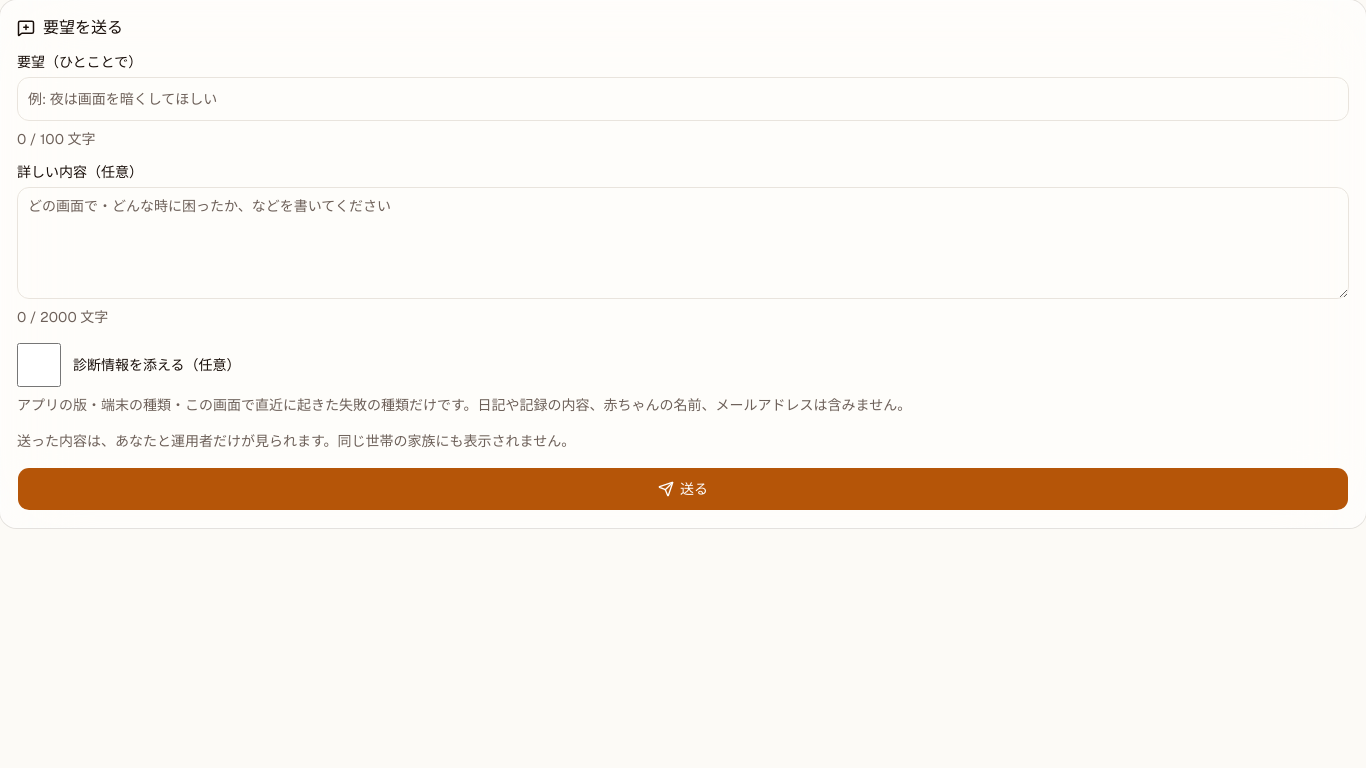
Test case: FeedbackForm — 検証 › 題が空なら送らず、欄に誤りを結ぶ
Click the button "送る" at (683, 489), box [17,467,1349,511]
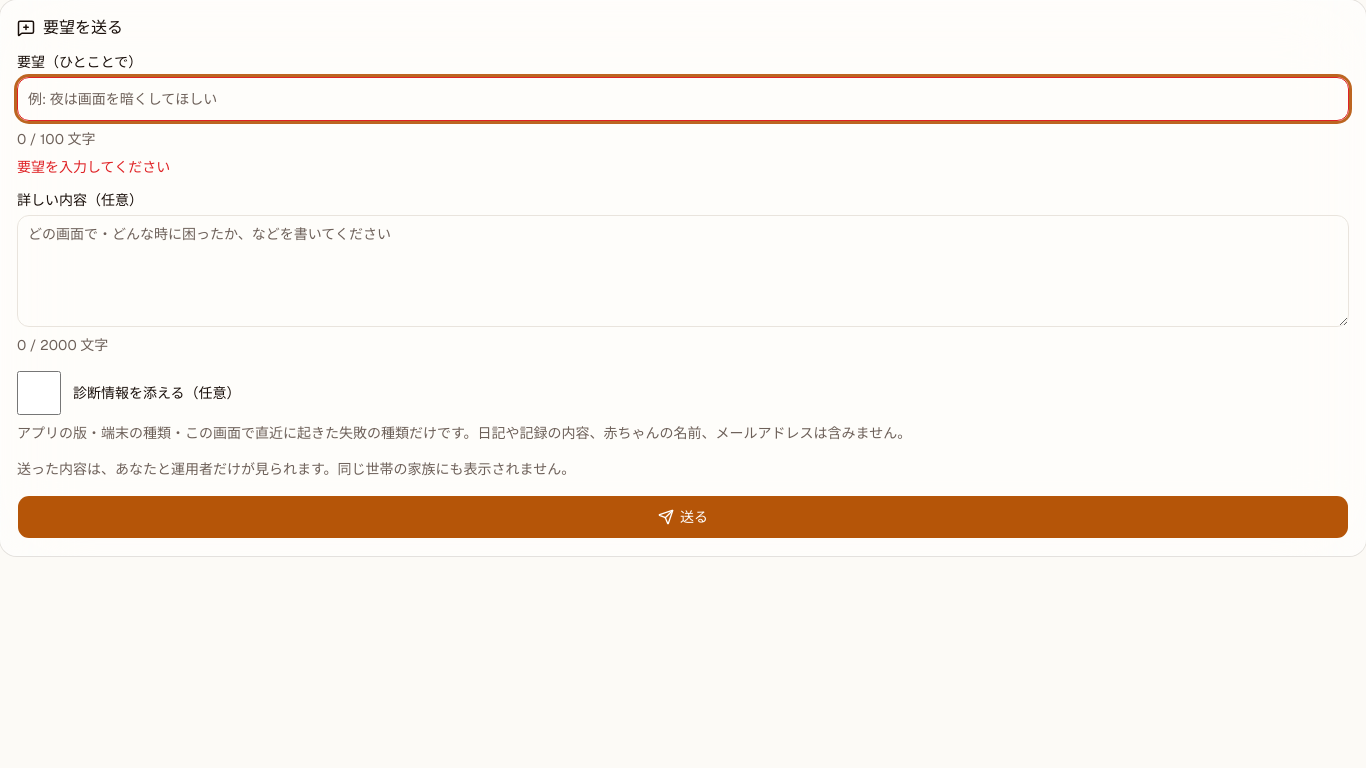
Expected: the message reads "要望を入力してください", [17,158,170,176]
